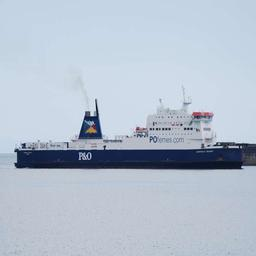Ship: (16, 100, 246, 172)
